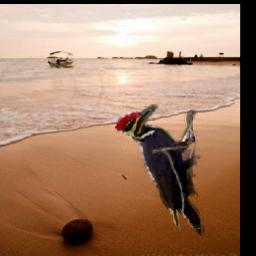Woodpecker: (114, 105, 204, 237)
